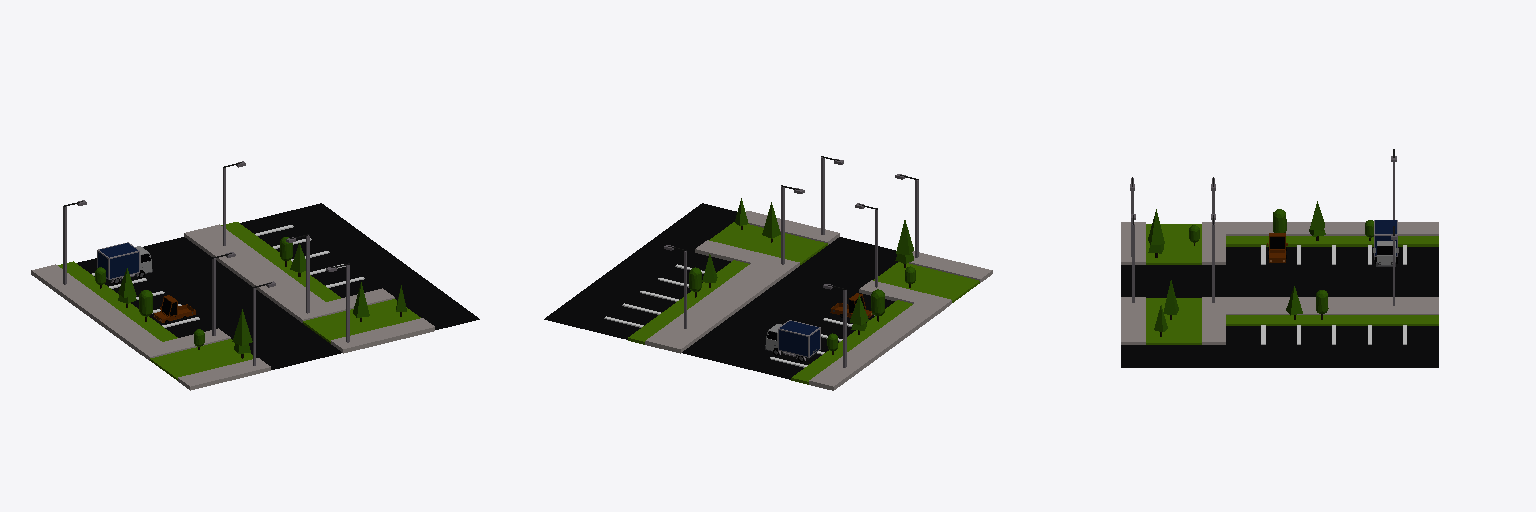
The model's file is ParkingLot.obj.
3 renders of one model, left to right at view 1: azimuth 30°, elevation 25°; view 2: azimuth 150°, elevation 25°; view 3: azimuth 270°, elevation 25°, orthographic.
Parts seen in each view (by area): view 1: Plane_Plane.008, Cube.905_Cube.3610, Cube.030_Cube.042, Cube.916_Cube.3629, CarColored.000_Cube.3470; view 2: Plane_Plane.008, Cube.905_Cube.3610, Cube.030_Cube.042, Cube.916_Cube.3629; view 3: Plane_Plane.008, Cube.905_Cube.3610, Cube.030_Cube.042, Cube.916_Cube.3629, CarColored.000_Cube.3470.
Boxes of the visible parts, x1,y1,x2,y2 form: Plane_Plane.008: [77, 203, 479, 369]; Cube.905_Cube.3610: [31, 222, 434, 354]; Cube.030_Cube.042: [138, 328, 270, 390]; Cube.916_Cube.3629: [97, 242, 152, 283]; CarColored.000_Cube.3470: [153, 295, 195, 323]; Plane_Plane.008: [544, 203, 897, 379]; Cube.905_Cube.3610: [628, 211, 944, 390]; Cube.030_Cube.042: [859, 251, 992, 311]; Cube.916_Cube.3629: [765, 320, 820, 361]; Plane_Plane.008: [1121, 247, 1438, 367]; Cube.905_Cube.3610: [1121, 222, 1438, 344]; Cube.030_Cube.042: [1121, 222, 1225, 264]; Cube.916_Cube.3629: [1373, 220, 1398, 266]; CarColored.000_Cube.3470: [1267, 233, 1287, 262].
Bounding box in the file's own units: 4.1 × 1.12 × 3.89.